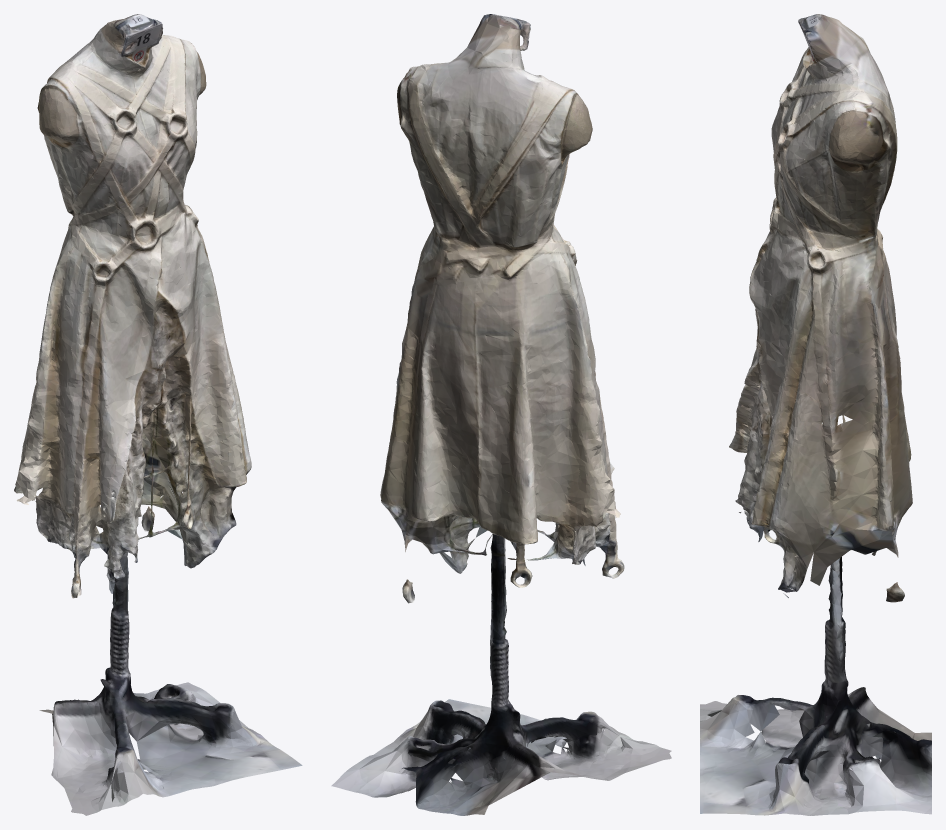
File: p-dress_20261103_optimized.glb
The picture shows the model from 3 angles, left to right: view 1: azimuth 30°, elevation 25°; view 2: azimuth 150°, elevation 25°; view 3: azimuth 270°, elevation 25°; orthographic projection. The views are drawn at different scales.
Visible parts, largest first — view 1: mesh; view 2: mesh; view 3: mesh.
Boxes of the visible parts, x1=… form: mesh: x1=14, y1=14, x2=302, y2=815; mesh: x1=331, y1=14, x2=671, y2=815; mesh: x1=700, y1=14, x2=931, y2=815.
Size of the model in its own units: 0.5261 by 1.64 by 0.4621.
Materials: 1 (1 with a texture image).
